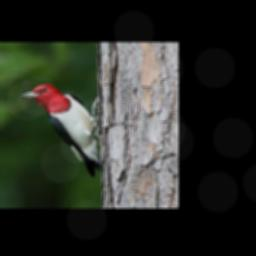Woodpecker: (16, 83, 105, 176)
